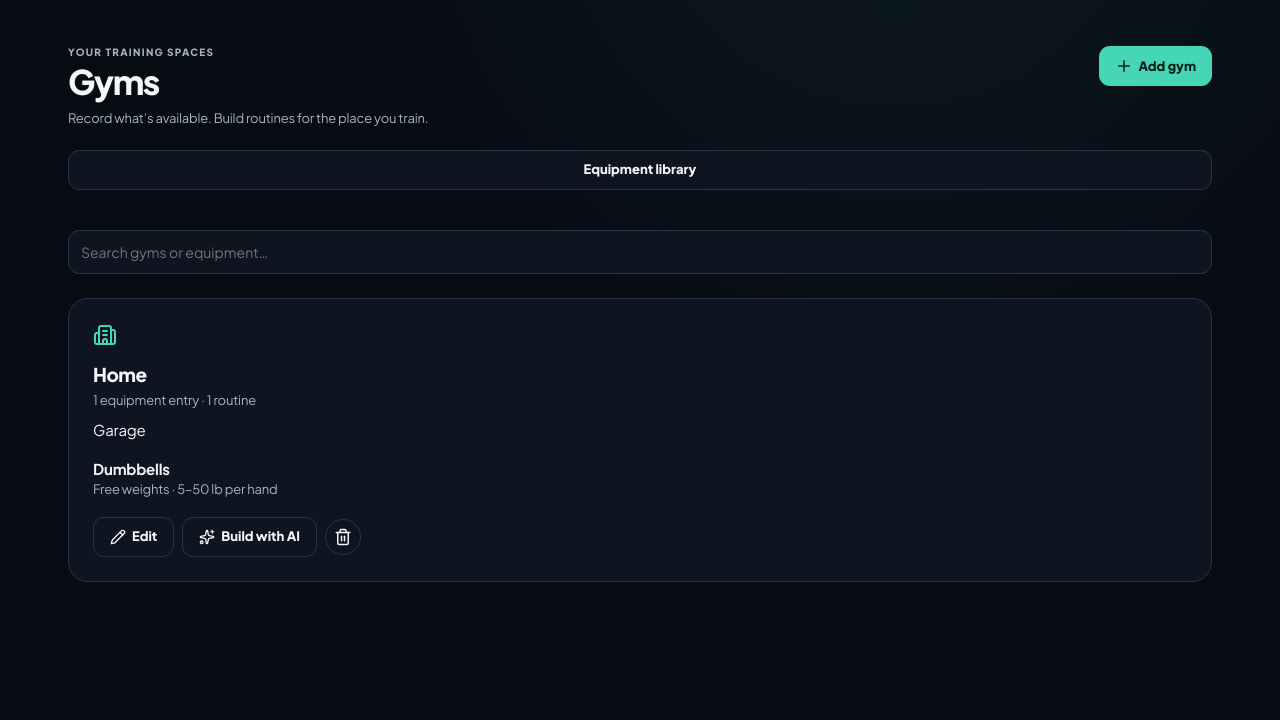
gym inventory › blocks deletion of an assigned gym
Click the button named "Delete Home".
click(343, 537)  # box [325,519,361,555]
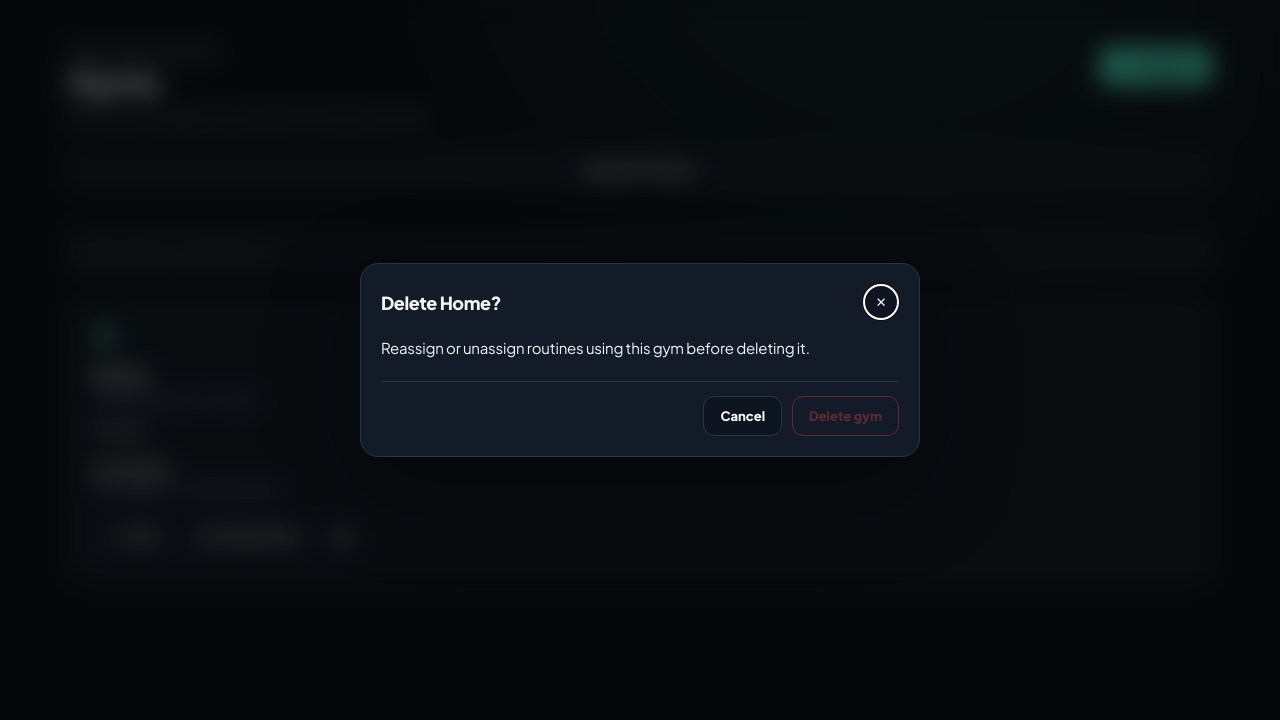
Result: the button "Delete gym" is disabled at [792,396,899,436]
